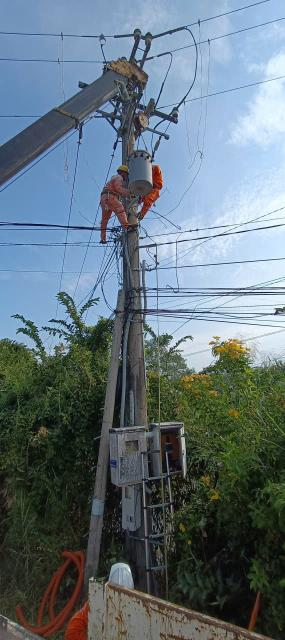harness: (96, 185, 120, 198)
helmet: (115, 161, 134, 176)
